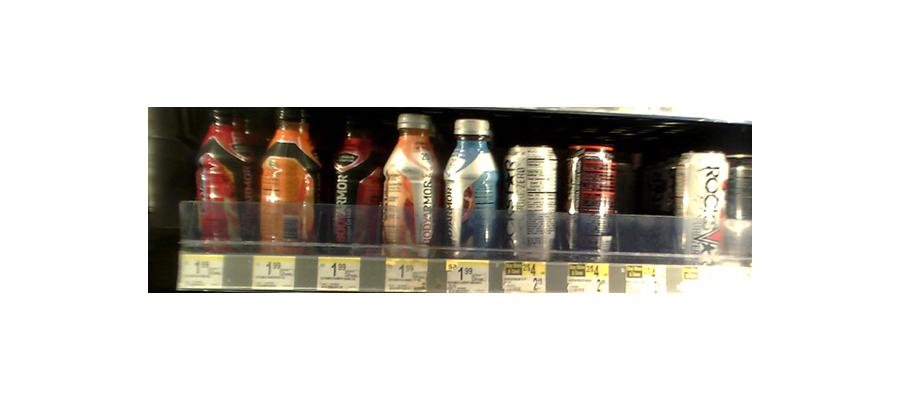bottle: (380, 109, 440, 259), (258, 105, 318, 250), (195, 105, 254, 246), (443, 114, 499, 256), (505, 148, 560, 260), (328, 116, 374, 249), (567, 145, 621, 257), (677, 151, 723, 260)
